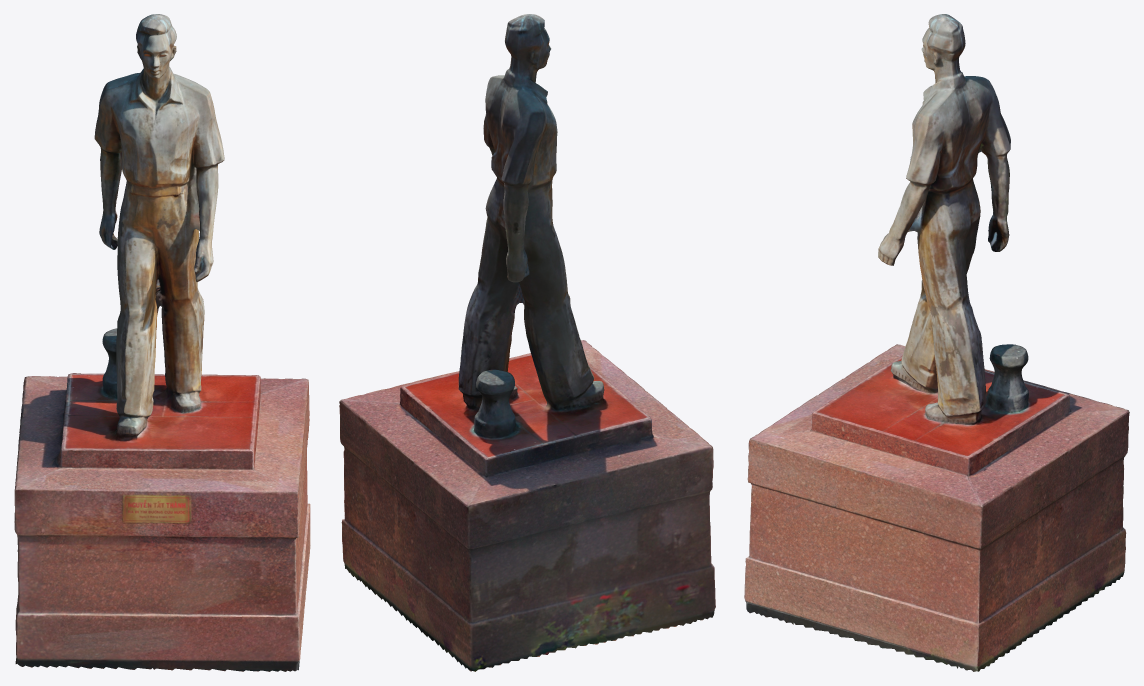
File: tuong_nguyen_tat_thanh.glb
3 views of the same model, side by side, from view 1: azimuth 30°, elevation 25°; view 2: azimuth 150°, elevation 25°; view 3: azimuth 270°, elevation 25° (orthographic). The views are drawn at different scales.
Visible parts, largest first — view 1: Object_4; view 2: Object_4; view 3: Object_4.
Boxes of the visible parts, x1,y1,x2,y2 form: Object_4: (14, 14, 310, 671); Object_4: (339, 14, 715, 671); Object_4: (744, 14, 1129, 671).
Size of the model in its own units: 0.5718 by 0.9599 by 0.5811.
1 material, 1 textured.
